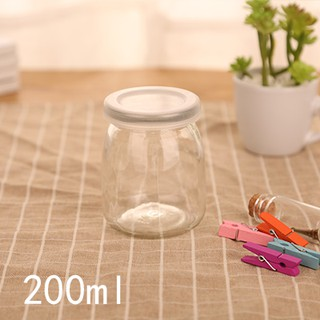glass_bottle: (96, 83, 211, 240)
